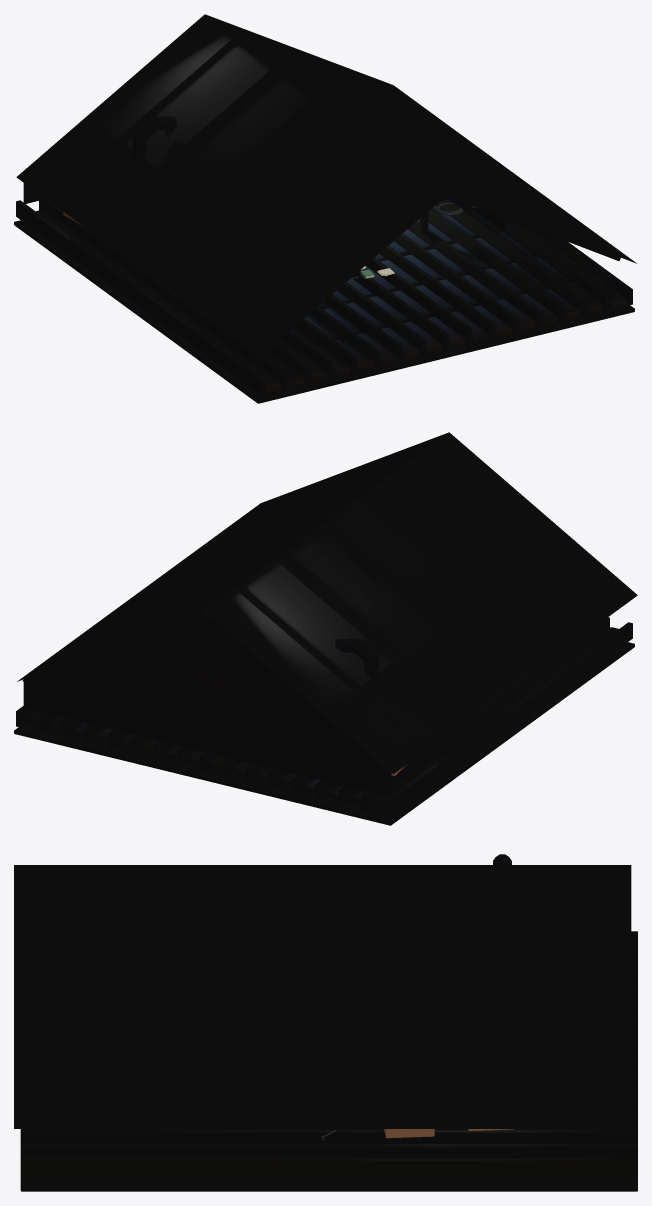
File: attic-baked.glb
3 views of the same model, one above another, from view 1: azimuth 30°, elevation 25°; view 2: azimuth 150°, elevation 25°; view 3: azimuth 270°, elevation 25° (orthographic). The views are drawn at different scales.
Parts seen in each view (by area): view 1: Pitched unfinished roof, Pitched unfinished roof.001, Dark unfinished floor cavity, Exposed rough floor joist, Exposed rough floor joist.001, Exposed rough floor joist.014, Exposed rough floor joist.013, Exposed rough floor joist.015, Exposed rough floor joist.012, Exposed rough floor joist.011, Exposed rough floor joist.010, Exposed rough floor joist.009 (+10 smaller); view 2: Pitched unfinished roof, Unfinished gable sheathing, Pitched unfinished roof.001, Dark unfinished floor cavity, Exposed rough floor joist, Exposed rough floor joist.001, Exposed roof rafter.013, Exposed roof rafter.006; view 3: Pitched unfinished roof.001, Exposed rough floor joist.016, Exposed rough floor joist.015, Exposed rough floor joist.014, Dark unfinished floor cavity, Exposed rough floor joist.013.
Boxes of the visible parts, x1,y1,x2,y2 form: Pitched unfinished roof: (16, 14, 448, 355); Pitched unfinished roof.001: (205, 14, 636, 263); Dark unfinished floor cavity: (14, 220, 634, 403); Exposed rough floor joist: (16, 200, 264, 395); Exposed rough floor joist.001: (39, 199, 287, 389); Exposed rough floor joist.014: (436, 199, 586, 316); Exposed rough floor joist.013: (428, 209, 563, 322); Exposed rough floor joist.015: (470, 205, 609, 310); Exposed rough floor joist.012: (408, 221, 540, 327); Exposed rough floor joist.011: (394, 233, 517, 333); Exposed rough floor joist.010: (379, 245, 494, 339); Exposed rough floor joist.009: (366, 257, 471, 344); Pitched unfinished roof: (205, 432, 637, 773); Unfinished gable sheathing: (23, 619, 391, 797); Pitched unfinished roof.001: (17, 432, 448, 681); Dark unfinished floor cavity: (14, 642, 634, 825); Exposed rough floor joist: (384, 622, 632, 817); Exposed rough floor joist.001: (361, 617, 609, 811); Exposed roof rafter.013: (22, 611, 205, 685); Exposed roof rafter.006: (211, 617, 390, 774); Pitched unfinished roof.001: (14, 865, 631, 1128); Exposed rough floor joist.016: (20, 1158, 637, 1180); Exposed rough floor joist.015: (20, 1144, 637, 1158); Exposed rough floor joist.014: (20, 1130, 637, 1143); Dark unfinished floor cavity: (20, 1180, 637, 1191); Exposed rough floor joist.013: (20, 1115, 637, 1129).
Bounding box in the file's own units: 8.2 × 3.47 × 9.3.
30 materials, 29 textured.
